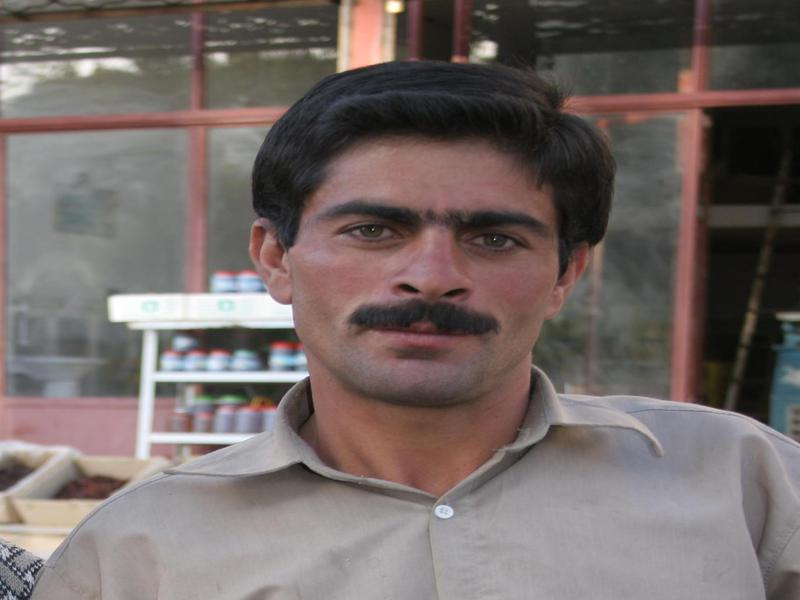person: (32, 58, 800, 600)
